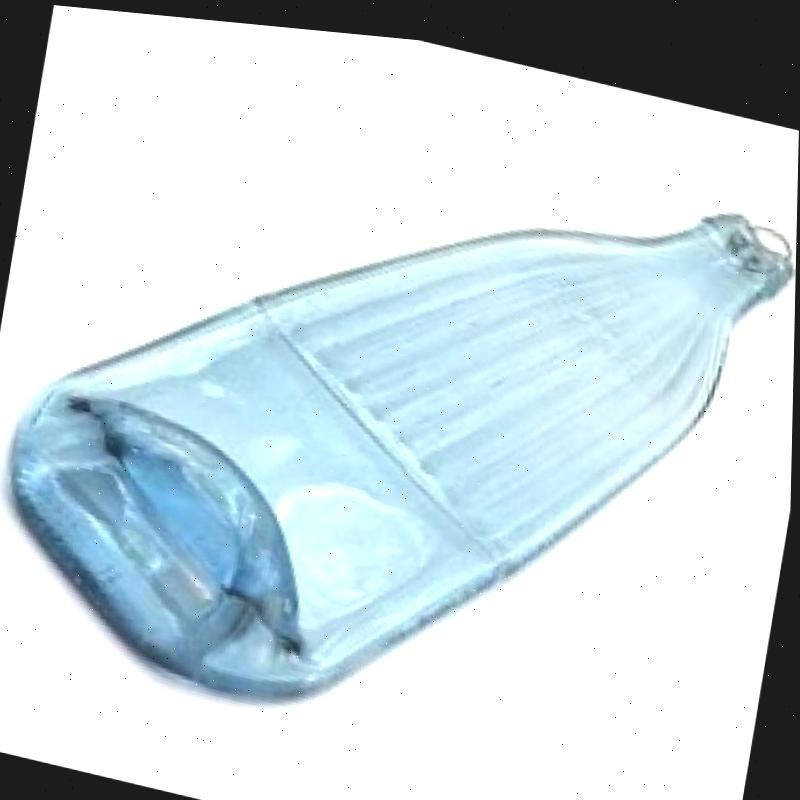botella: (0, 43, 799, 798)
